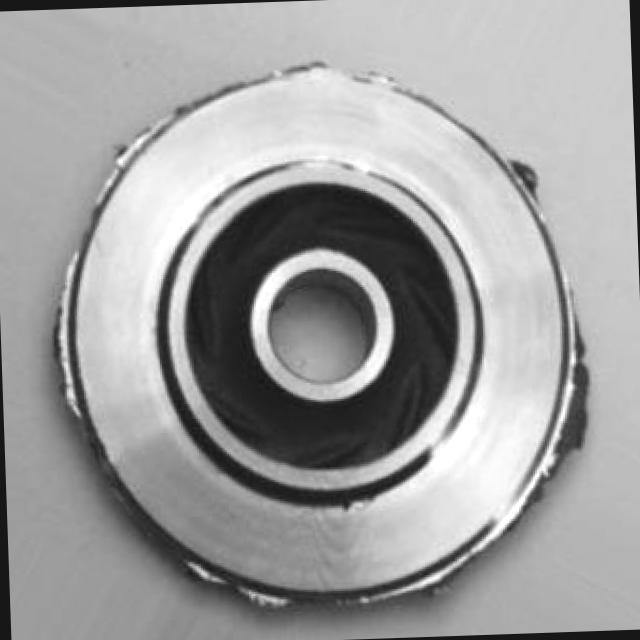Defect: (548, 372, 597, 458)
